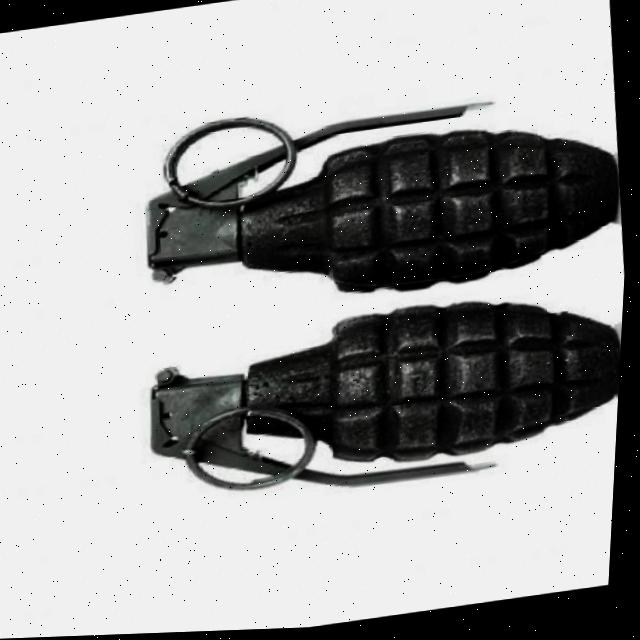grenade: (53, 62, 637, 544)
